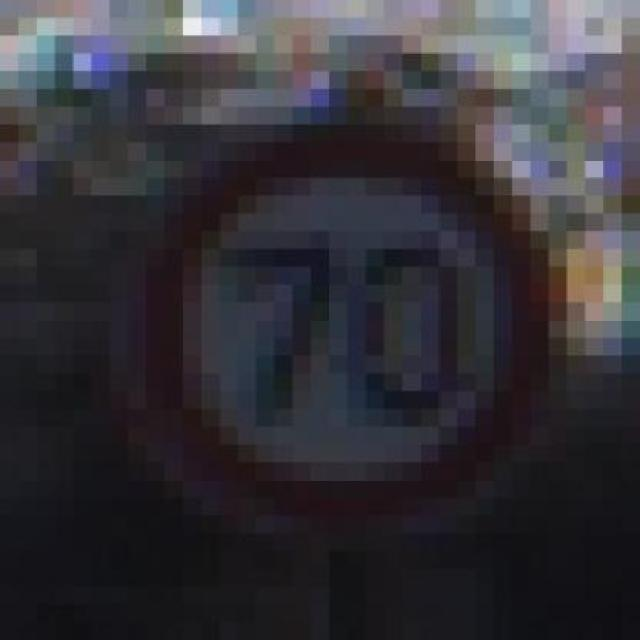forb_speed_over_70: (158, 132, 541, 510)
